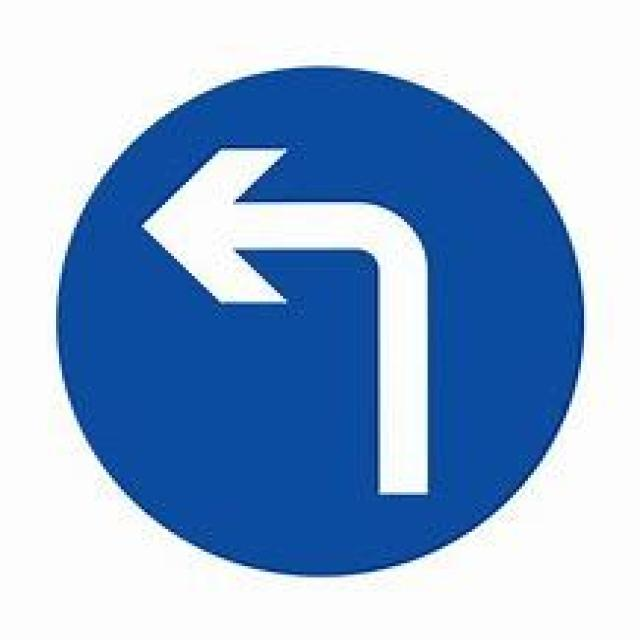COMPULSARY_TURN_LEFT_AHEAD: (56, 66, 586, 580)
